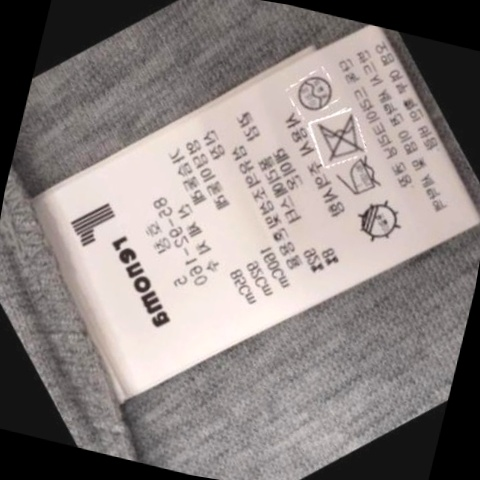DN_wash: (307, 110, 368, 164)
dry_clean_petrol_only: (290, 68, 338, 115)
iron_low: (333, 154, 387, 203)
line_dry_in_shade: (347, 196, 405, 246)
